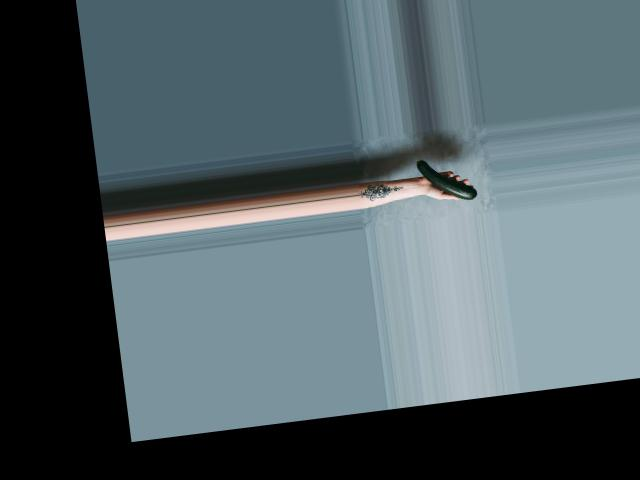cucumber: (416, 153, 478, 205)
